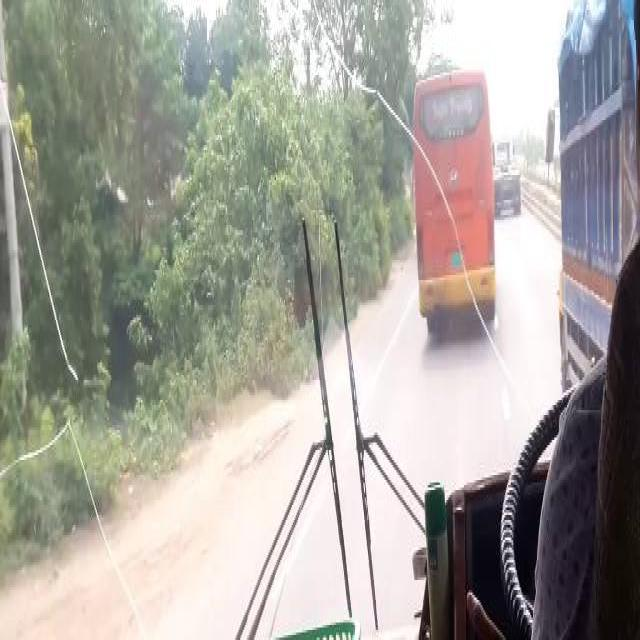bus: (414, 75, 494, 313)
truck: (549, 6, 637, 392), (494, 133, 520, 215)
